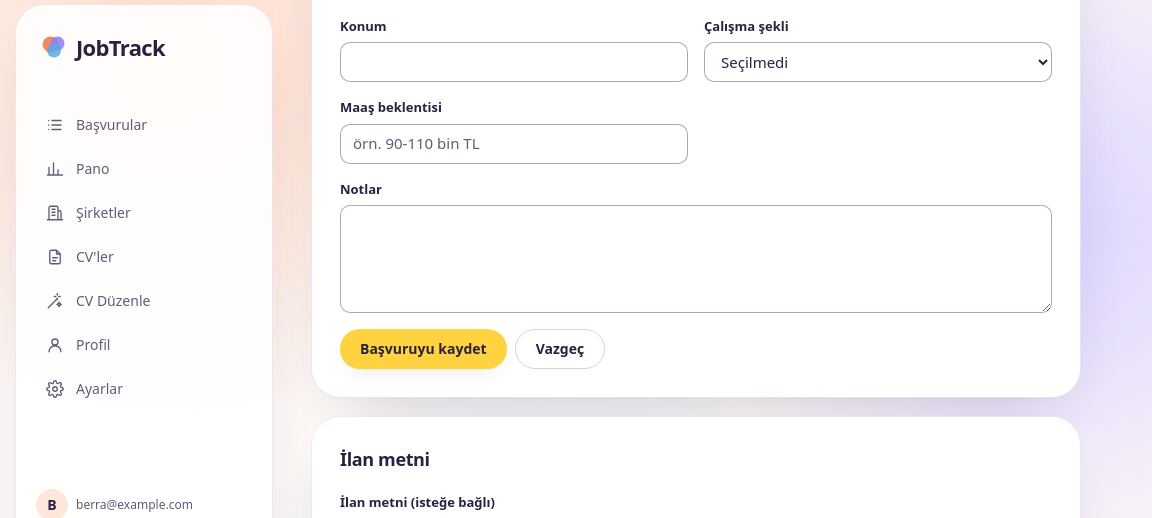
Scenario: yeni başvuru formu (FR-04, NFR-09) › şirket ve pozisyon boşsa göndermez, hatayı alanın yanında gösterir
(page scrolled)
Click the button "Başvuruyu kaydet".
click(423, 349)  # box [340,329,507,369]
(page scrolled)
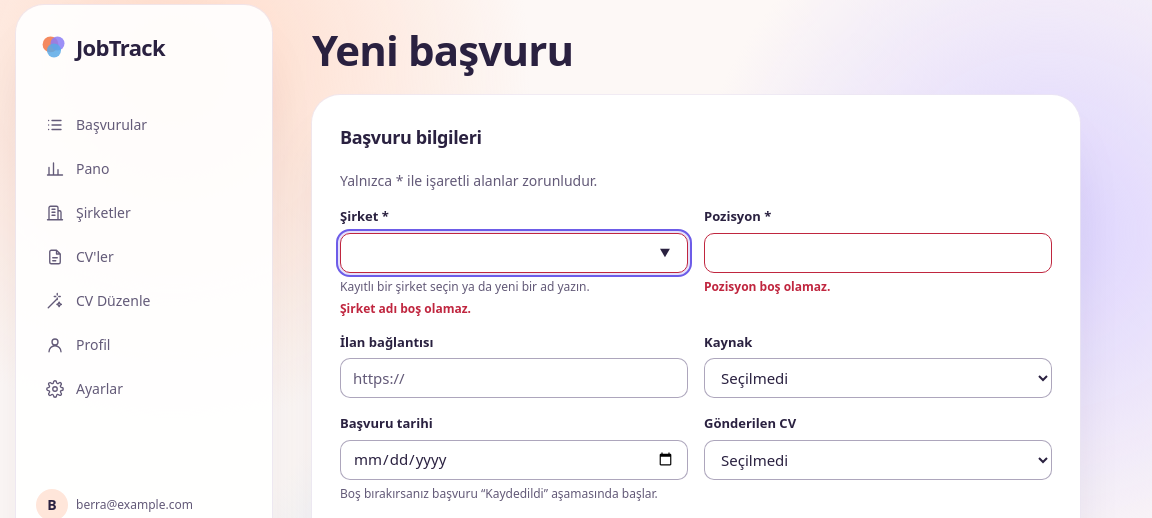
Now the text "Şirket adı boş olamaz." is shown, box [340,300,471,316]
